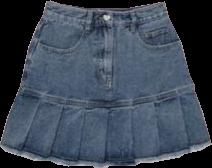Hemline: (0, 142, 211, 165)
Waistline: (20, 78, 193, 101), (42, 12, 168, 25), (47, 0, 164, 11)
